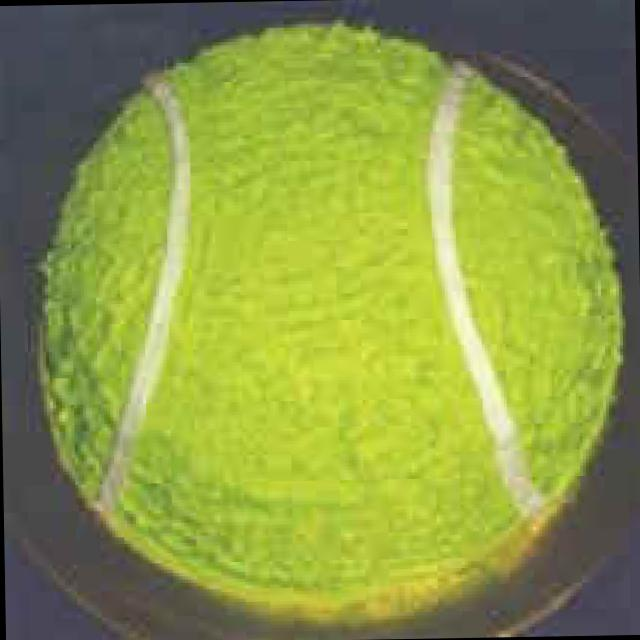Tennis Ball: (37, 20, 625, 626)
